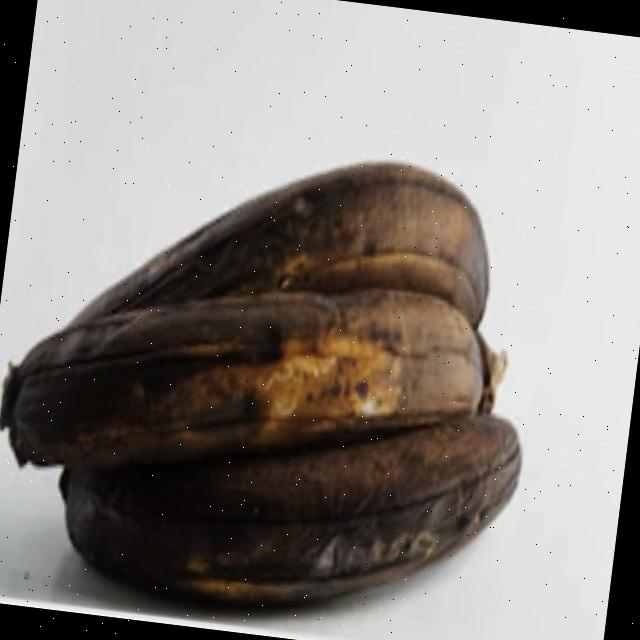rotten banana: (7, 0, 569, 640)
